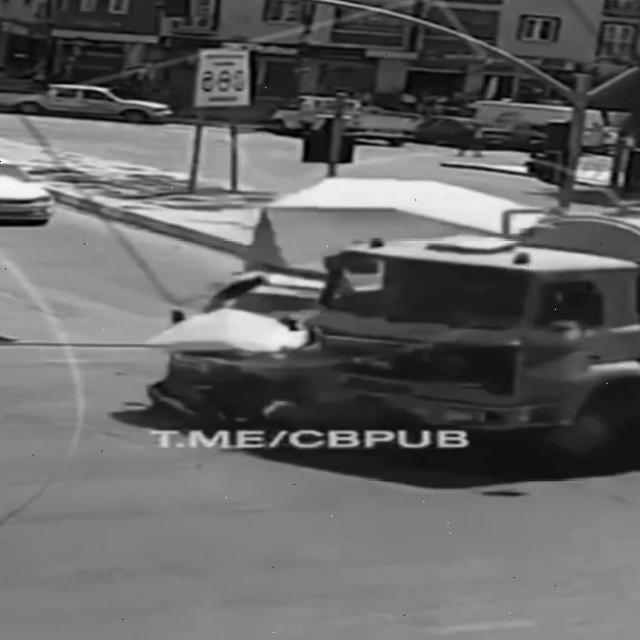accident: (147, 166, 640, 489)
